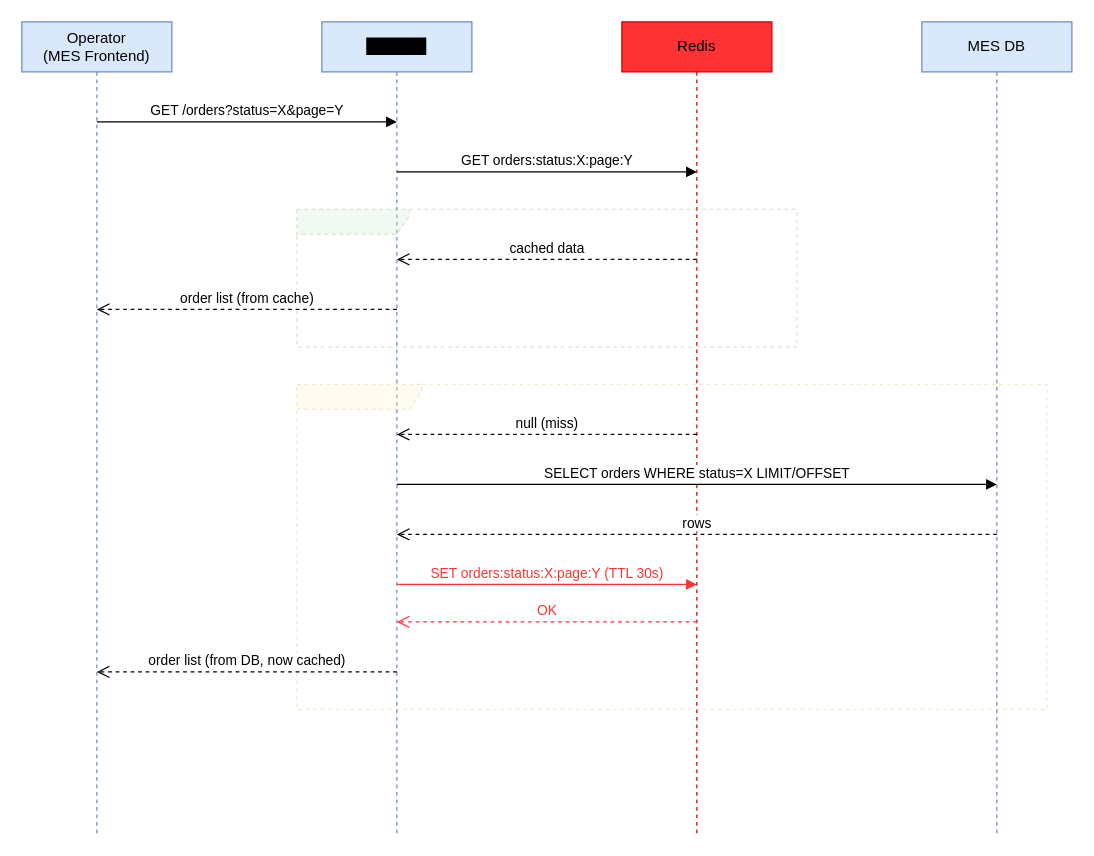
Image size: 1094x856. Some labels were removed from this diagram. Here are the shapes that lost their labels. From the top down, the centre of each, then its label:
At [546,277]: "alt [cache hit]".
At [671,546]: "alt [cache miss]".
